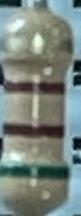Brown: (3, 122, 64, 138), (4, 80, 65, 95)
Green: (0, 163, 69, 179)
Side-Silver: (0, 31, 72, 53)
